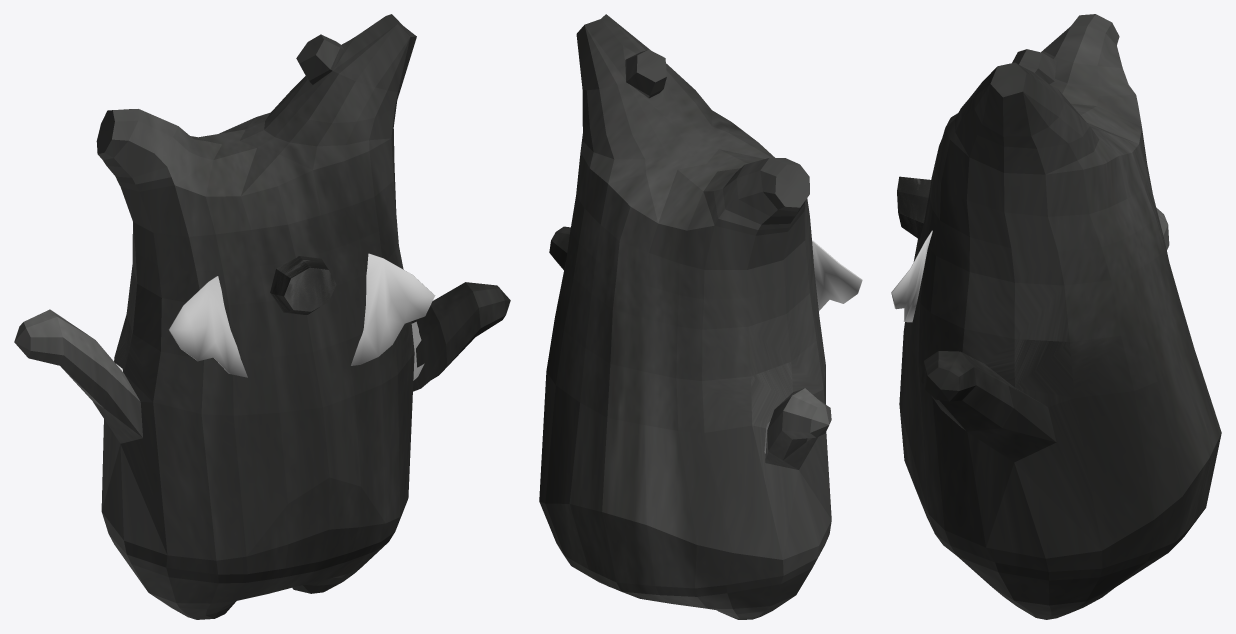
File: frame_0108.obj
3 views of the same model, side by side, from view 1: azimuth 30°, elevation 25°; view 2: azimuth 150°, elevation 25°; view 3: azimuth 270°, elevation 25° (orthographic). The views are drawn at different scales.
Visible parts, largest first — view 1: korok, leaf, nose; view 2: korok, leaf; view 3: korok, nose, leaf.
Boxes of the visible parts, left/top/right/bottom form: korok: left=14, top=14, right=510, bottom=619; leaf: left=169, top=253, right=435, bottom=377; nose: left=270, top=256, right=336, bottom=314; korok: left=539, top=14, right=831, bottom=619; leaf: left=812, top=240, right=862, bottom=310; korok: left=899, top=14, right=1221, bottom=619; nose: left=897, top=176, right=930, bottom=239; leaf: left=891, top=230, right=932, bottom=322.
Size of the model in its own units: 1.67 by 2.32 by 1.2.
